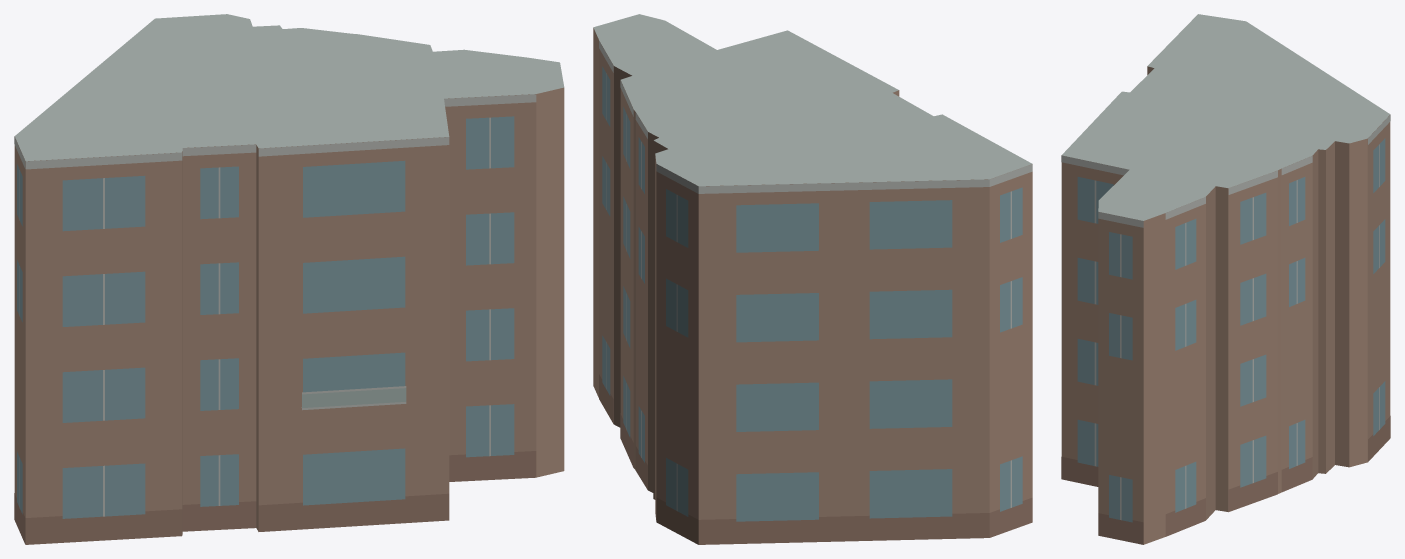
File: survey-upis-32942721.glb
3 views of the same model, side by side, from view 1: azimuth 30°, elevation 25°; view 2: azimuth 150°, elevation 25°; view 3: azimuth 270°, elevation 25° (orthographic). The views are drawn at different scales.
Parts seen in each view (by area): view 1: survey-upis-32942721.tmp; view 2: survey-upis-32942721.tmp; view 3: survey-upis-32942721.tmp.
Part boxes in pixels (x1,y1,x2,y2): survey-upis-32942721.tmp: (14, 14, 564, 544); survey-upis-32942721.tmp: (593, 14, 1032, 544); survey-upis-32942721.tmp: (1061, 14, 1390, 544).
Bounding box in the file's own units: 15.63 × 11.4 × 10.5.
